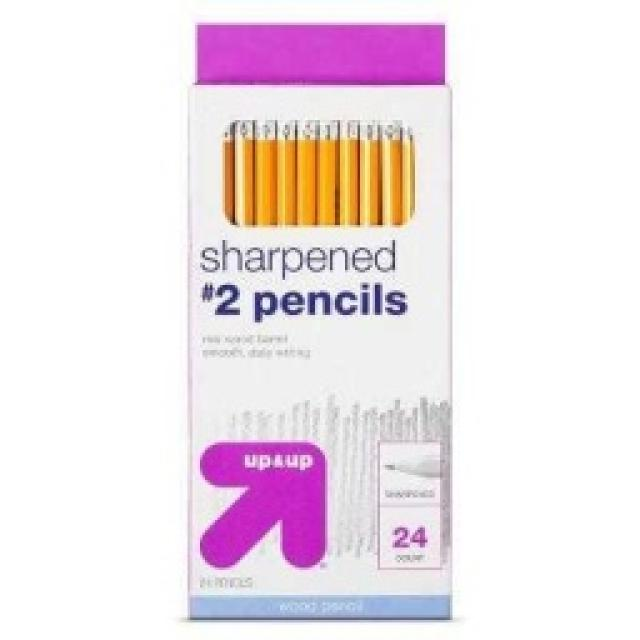pencil: (180, 18, 455, 620)
